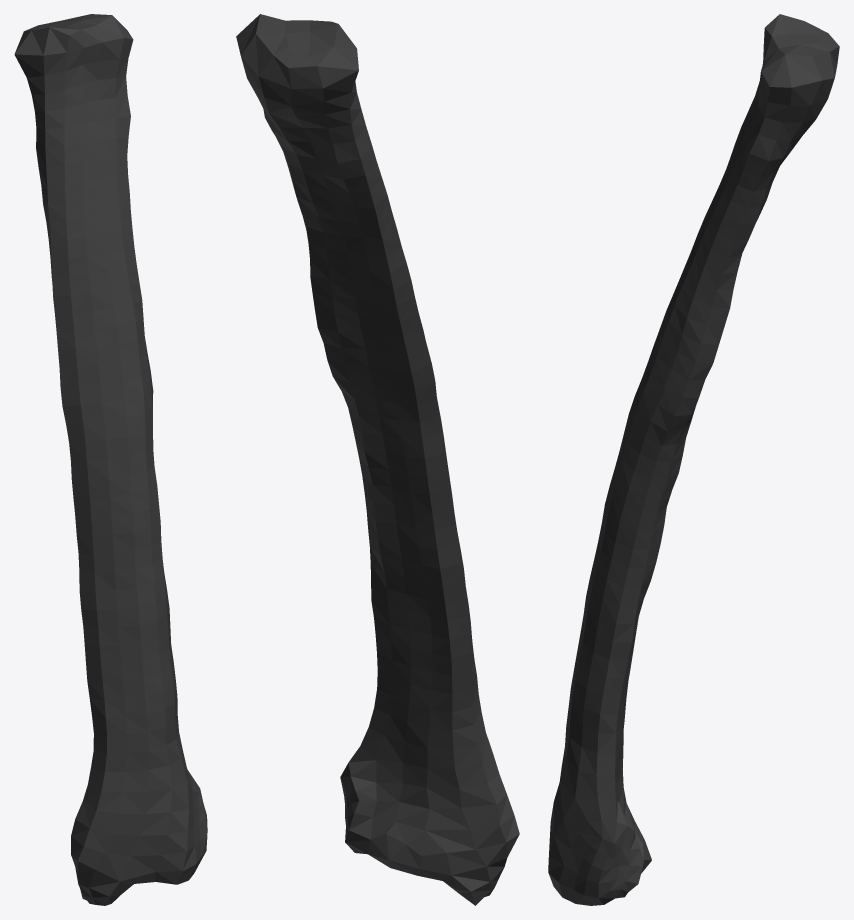
The model's file is Radius.glb.
3 renders of one model, left to right at view 1: azimuth 30°, elevation 25°; view 2: azimuth 150°, elevation 25°; view 3: azimuth 270°, elevation 25°, orthographic. The views are drawn at different scales.
Visible parts, largest first — view 1: Radius; view 2: Radius; view 3: Radius.
Part boxes in pixels (left/top/right/bottom): Radius: left=14, top=14, right=207, bottom=905; Radius: left=236, top=14, right=519, bottom=905; Radius: left=548, top=14, right=839, bottom=905.
Size of the model in its own units: 1.74 by 9.14 by 2.74.
1 material, 1 textured.
